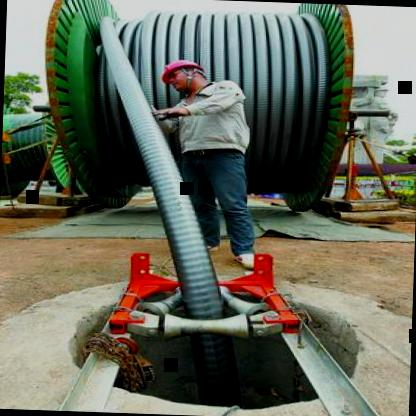helmet: (152, 53, 210, 95)
